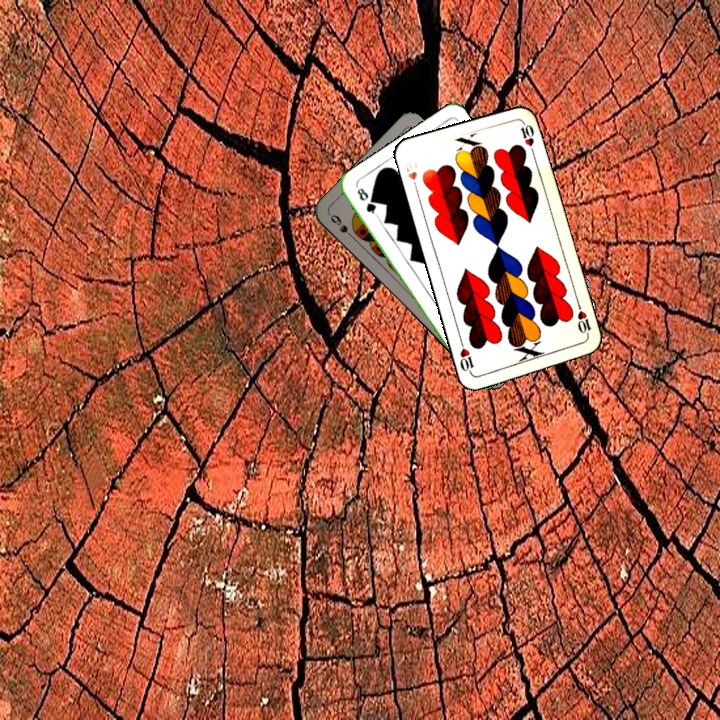G8: (353, 184, 380, 219)
H10: (573, 300, 594, 340), (400, 156, 420, 193)
S9: (326, 210, 358, 243)
